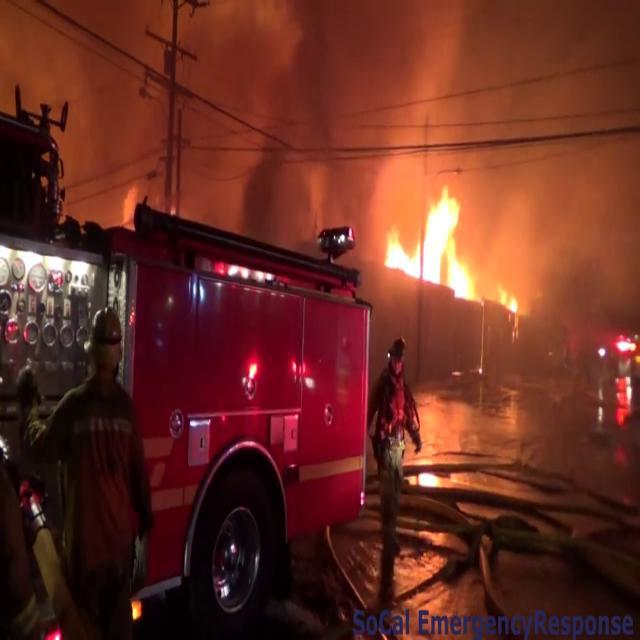Fire: (379, 183, 493, 300)
Smoke: (11, 0, 636, 204)
